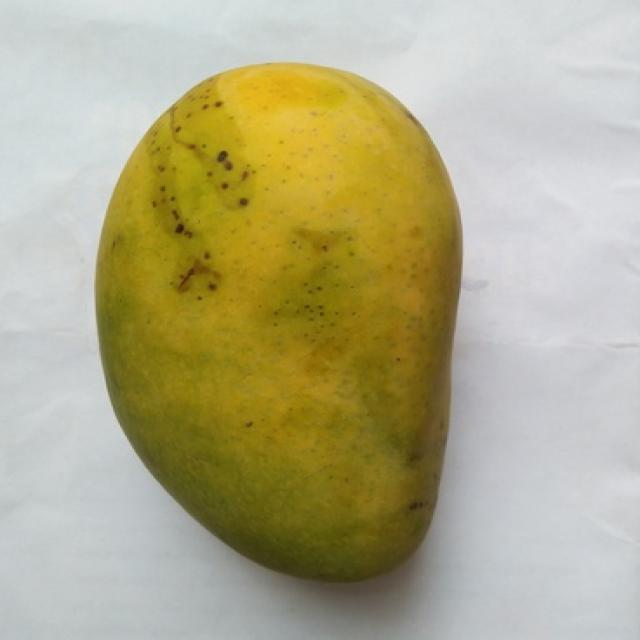Mango: (97, 66, 461, 579)
